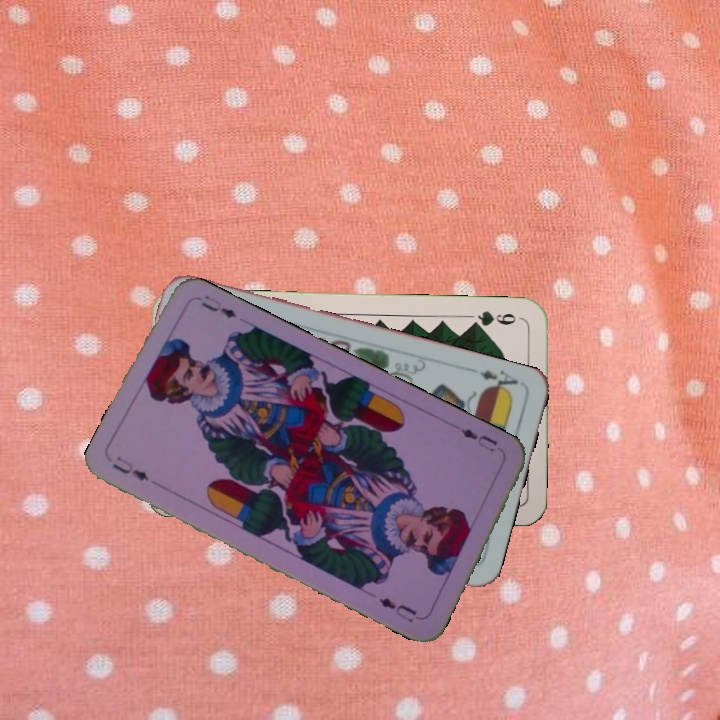EA: (475, 366, 521, 397)
EU: (108, 453, 152, 484), (457, 424, 500, 455)
G9: (466, 307, 525, 330)
